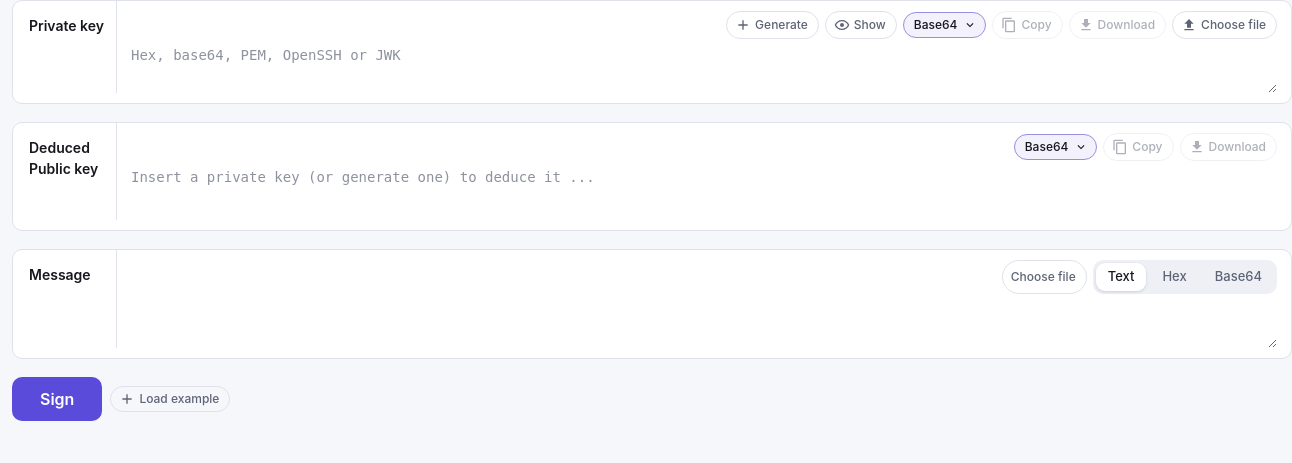
it: FormSign component › should ask for the private key when it is missing
The width and height of the screenshot is (1292, 463).
Click the button "Sign". click: (57, 399)
box: [12,377,102,421]
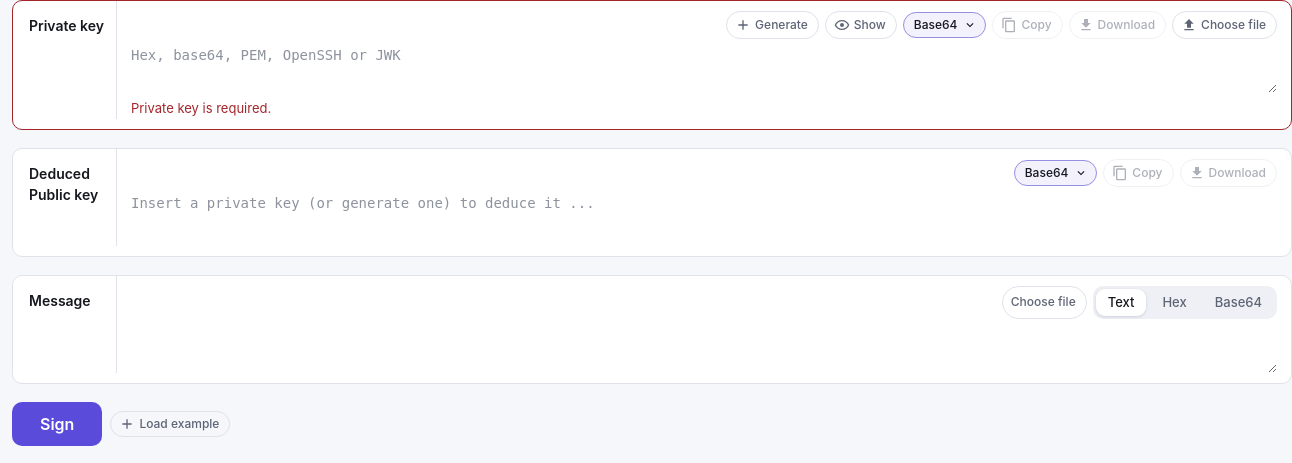
Expected: the text "Private key is required." is shown, [131,100,271,116]
